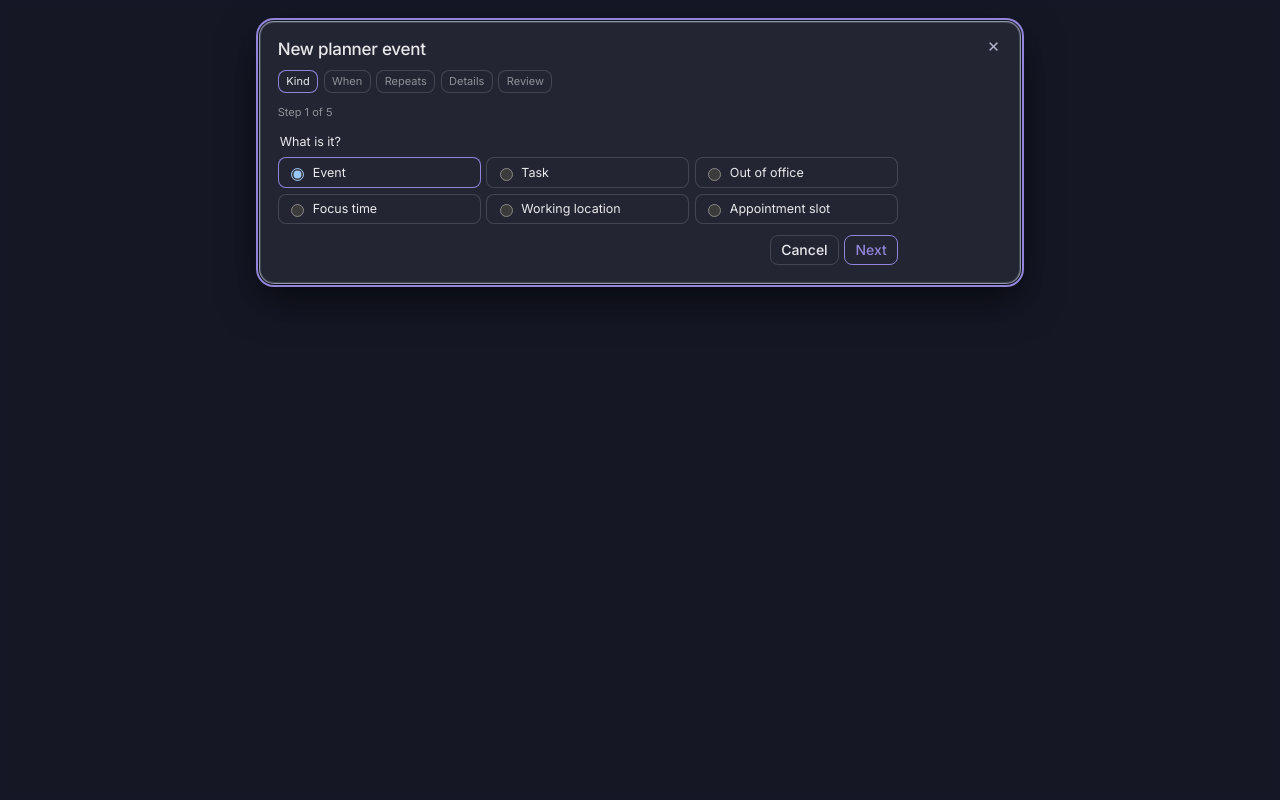
Test case: R3-9 — step by step › starts on the kind, offering all six, and moves on to when
Expected: the text "Step 1 of 5" is shown, left=278, top=105, right=332, bottom=119
Expected: the radio button labelled "Event" is checked, left=291, top=168, right=304, bottom=181
Click the radio button labelled "Focus time" at (298, 210), box left=291, top=204, right=304, bottom=217
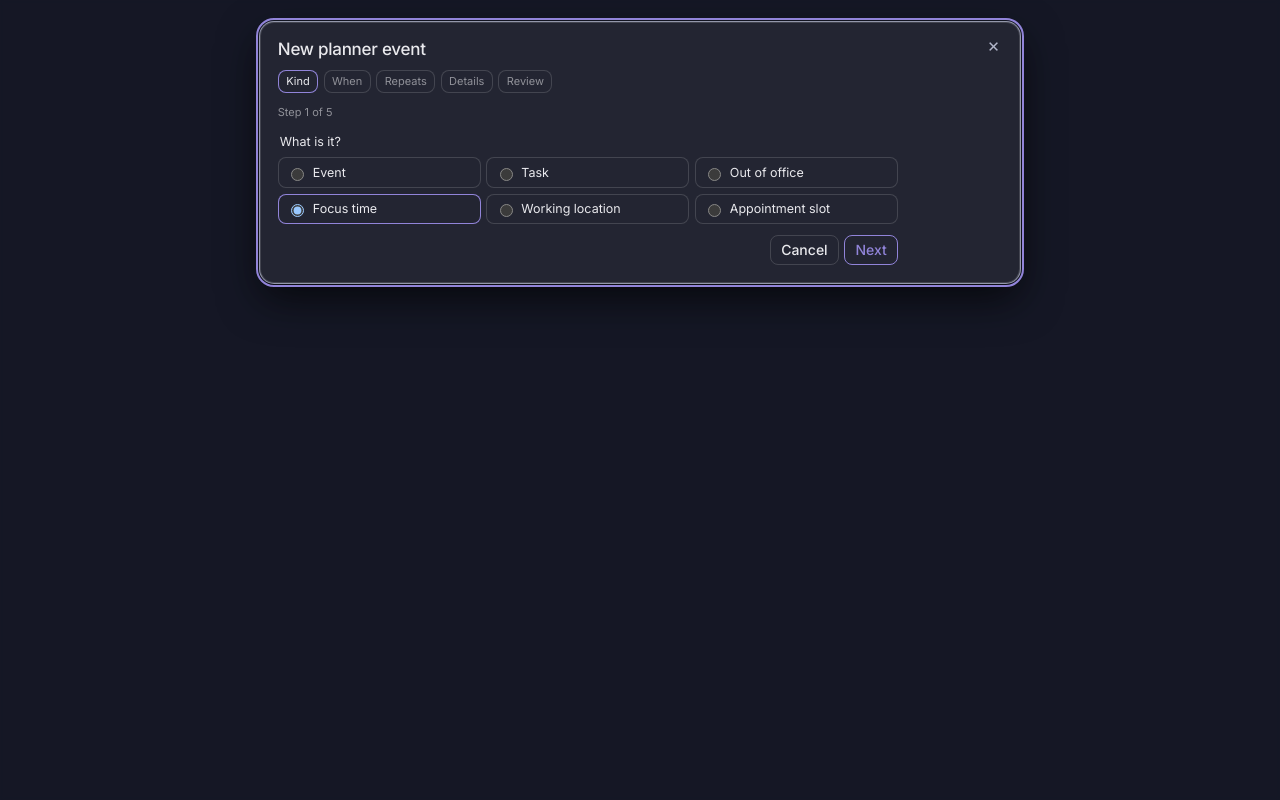
Click the button "Next" at (871, 250), box left=844, top=235, right=898, bottom=265
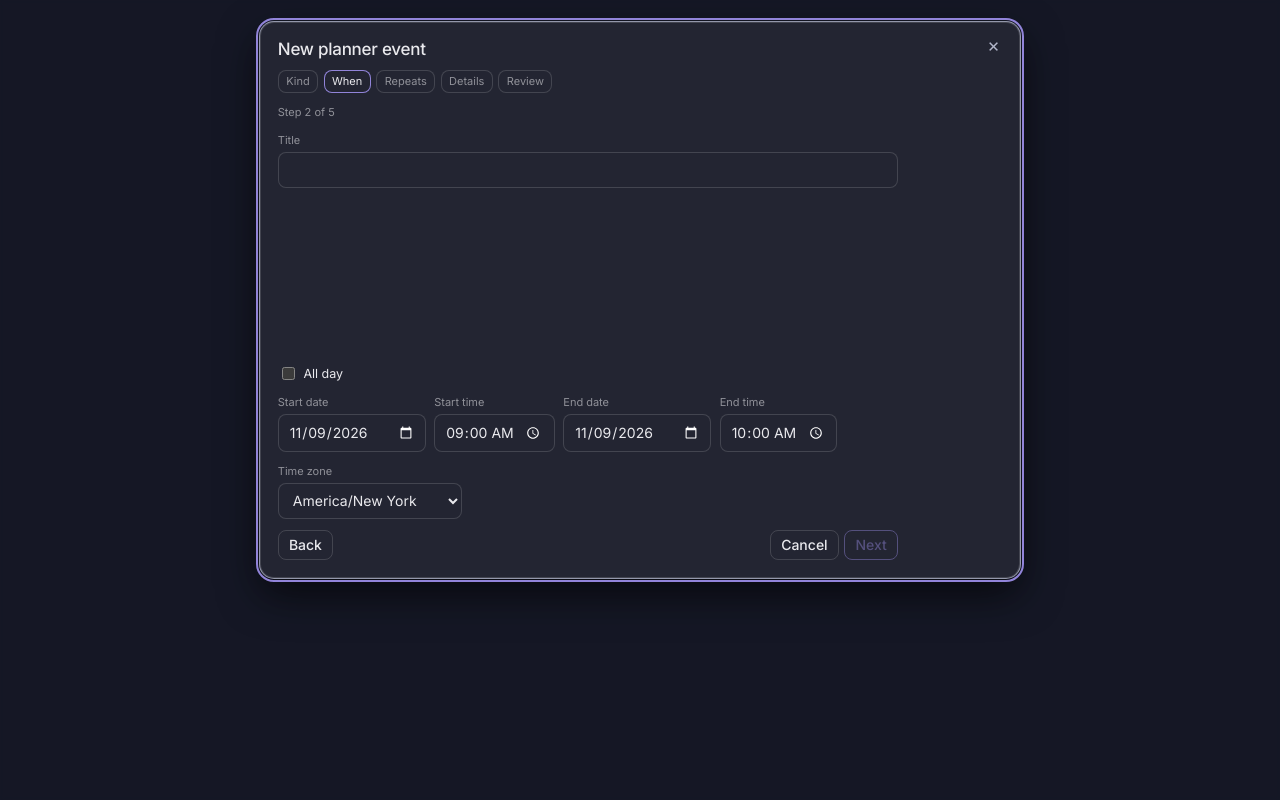
Expected: the text "Step 2 of 5" is shown, left=278, top=105, right=335, bottom=119
Expected: the field labelled "Title" is shown, left=278, top=152, right=898, bottom=188
